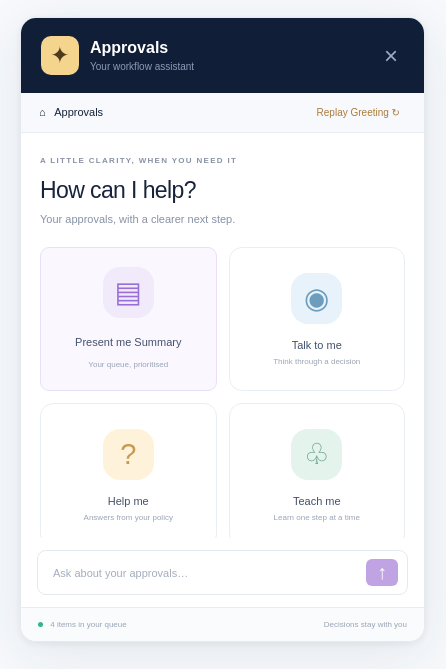
Test: replaces partial text with a marked fallback
The width and height of the screenshot is (446, 669).
Click the button "▤ Present me Summary Your queue, prioritised". click: (128, 319)
box: x1=40 y1=247 x2=216 y2=391
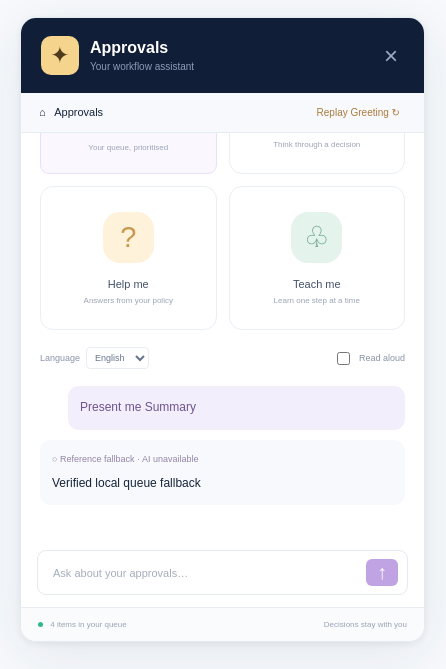
Expected: the text "Verified local queue fallback" is shown, x1=52 y1=476 x2=201 y2=490
Expected: the text "○ Reference fallback · AI unavailable" is shown, x1=52 y1=454 x2=198 y2=464
